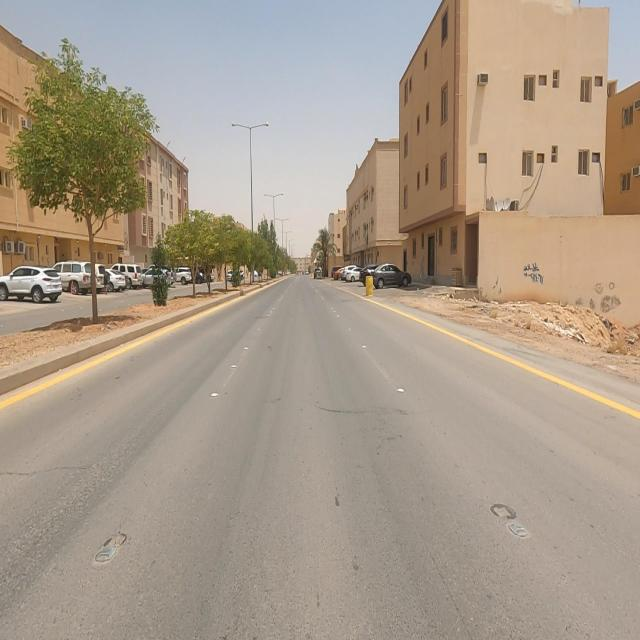Graffiti: (526, 263, 545, 286)
